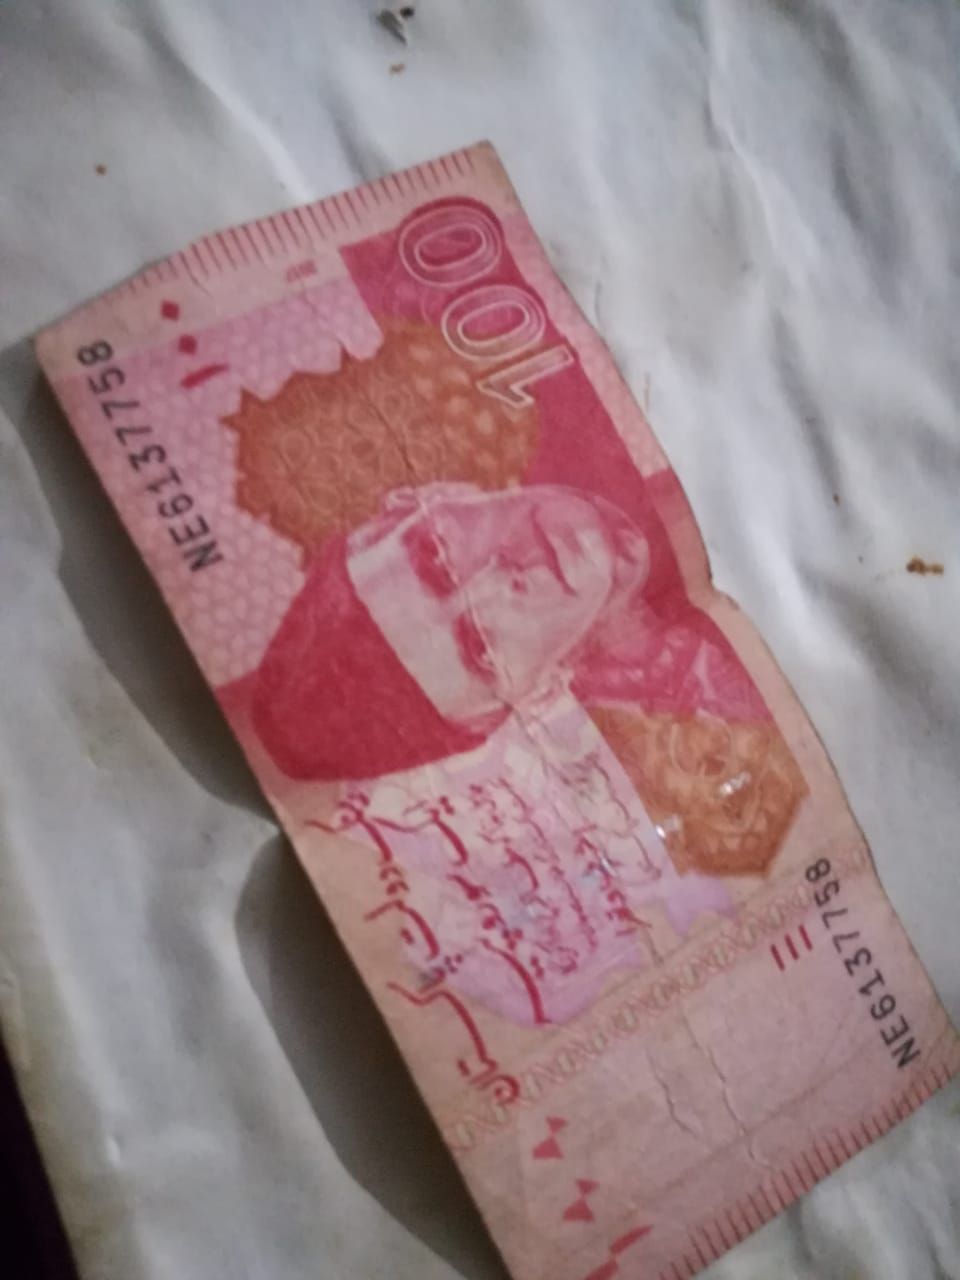100 rupee: (20, 139, 960, 1266)
